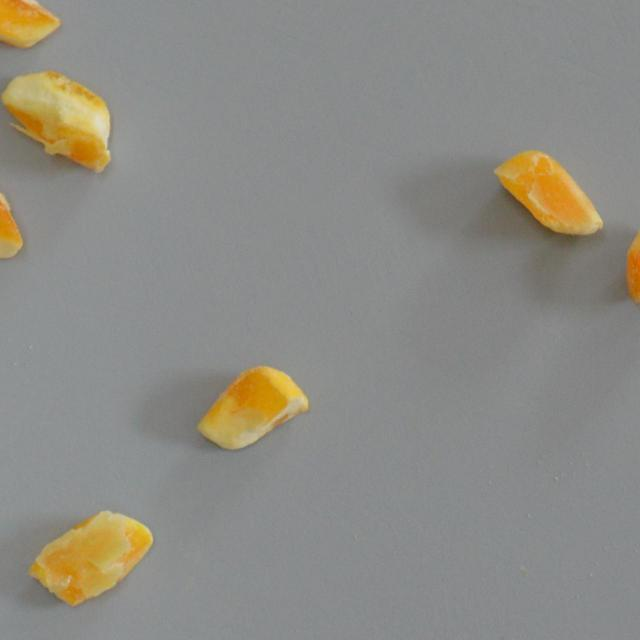dañado: (623, 211, 640, 308)
pelicula: (26, 507, 154, 608), (0, 66, 110, 171), (490, 145, 606, 238), (187, 367, 310, 444), (0, 0, 60, 52), (0, 160, 23, 261)
